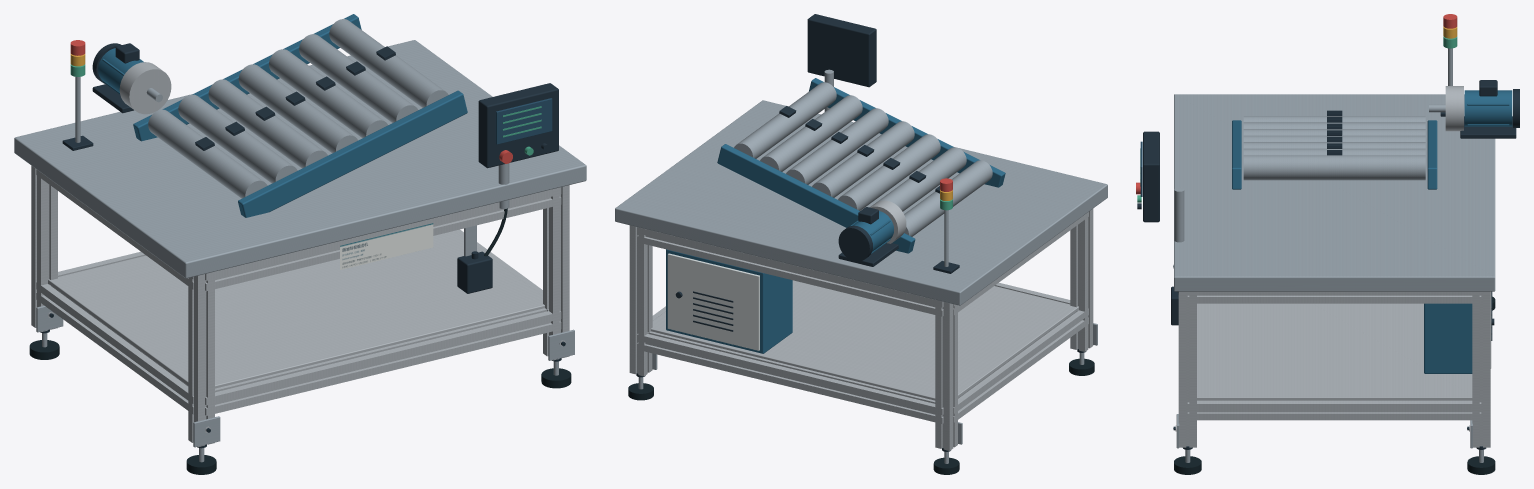
The model's file is incline-conveyor-cell.glb.
3 views of the same model, side by side, from view 1: azimuth 30°, elevation 25°; view 2: azimuth 150°, elevation 25°; view 3: azimuth 270°, elevation 25° (orthographic). The views are drawn at different scales.
Visible parts, largest first — view 1: ClosedMachineBed_40, LowerShelf_41, SlottedExtrusion_34, TransportRail_72, SlottedExtrusion_35, SlottedExtrusion_11, SlottedExtrusion_36, SlottedExtrusion_27, ConsoleBack_52, TransportRoller_74, TransportRoller_75, TransportRoller_76 (+14 smaller); view 2: ClosedMachineBed_40, LowerShelf_41, BackDoor_43, SlottedExtrusion_32, SlottedExtrusion_33, ConsoleBack_52, TransportRail_71, SlottedExtrusion_3, SlottedExtrusion_19, Cabinet_42, SlottedExtrusion_36, SlottedExtrusion_11 (+13 smaller); view 3: ClosedMachineBed_40, LowerShelf_41, SlottedExtrusion_38, TransportRoller_79, SlottedExtrusion_39, Cabinet_42, SlottedExtrusion_27, SlottedExtrusion_19, MotorBody_88, ConsoleBack_52, TransportRoller_78, TransportRoller_74 (+11 smaller).
Boxes of the visible parts, box(x1,y1,x2,y2) form: ClosedMachineBed_40: box(14, 40, 586, 278); LowerShelf_41: box(48, 231, 544, 388); SlottedExtrusion_34: box(205, 308, 561, 415); TransportRail_72: box(238, 90, 467, 217); SlottedExtrusion_35: box(205, 187, 561, 291); SlottedExtrusion_11: box(188, 271, 214, 446); SlottedExtrusion_36: box(36, 282, 193, 414); SlottedExtrusion_27: box(543, 185, 569, 360); ConsoleBack_52: box(478, 83, 558, 168); TransportRoller_74: box(178, 94, 297, 183); TransportRoller_75: box(208, 79, 327, 168); TransportRoller_76: box(238, 64, 357, 153); ClosedMachineBed_40: box(615, 100, 1107, 305); LowerShelf_41: box(651, 280, 1078, 400); BackDoor_43: box(667, 253, 759, 350); SlottedExtrusion_32: box(637, 331, 943, 423); SlottedExtrusion_33: box(637, 227, 943, 316); ConsoleBack_52: box(807, 14, 876, 87); TransportRail_71: box(717, 144, 915, 253); SlottedExtrusion_3: box(935, 300, 957, 450); SlottedExtrusion_19: box(629, 225, 652, 376); Cabinet_42: box(666, 249, 792, 353); SlottedExtrusion_36: box(953, 308, 1088, 422); SlottedExtrusion_11: box(1070, 209, 1093, 351); ClosedMachineBed_40: box(1174, 94, 1495, 291); LowerShelf_41: box(1197, 303, 1472, 400); SlottedExtrusion_38: box(1187, 400, 1481, 420); TransportRoller_79: box(1243, 155, 1425, 180); SlottedExtrusion_39: box(1187, 291, 1481, 303); Cabinet_42: box(1424, 303, 1472, 373); SlottedExtrusion_27: box(1178, 291, 1196, 447); SlottedExtrusion_19: box(1472, 291, 1490, 447); MotorBody_88: box(1464, 90, 1512, 126); ConsoleBack_52: box(1143, 131, 1159, 222); TransportRoller_78: box(1243, 148, 1425, 155); TransportRoller_74: box(1243, 122, 1425, 128).
Bounding box in the file's own units: 1.55 × 1.18 × 1.37.
11 materials, 3 textured.
